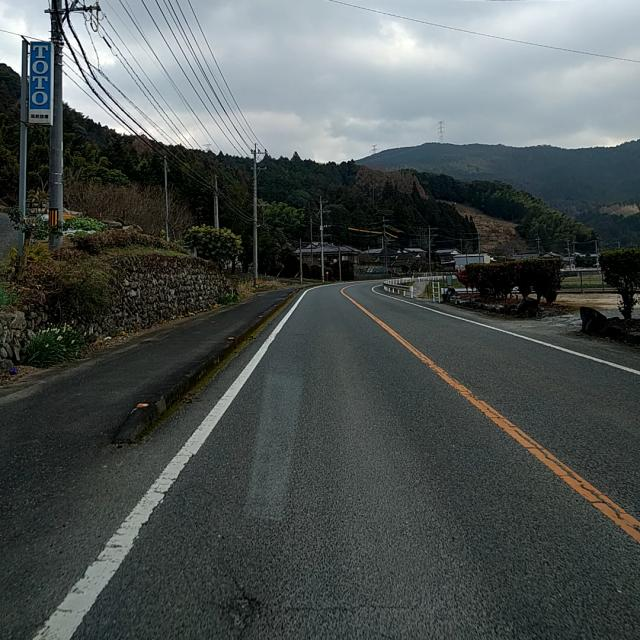pothole: (174, 521, 433, 639)
